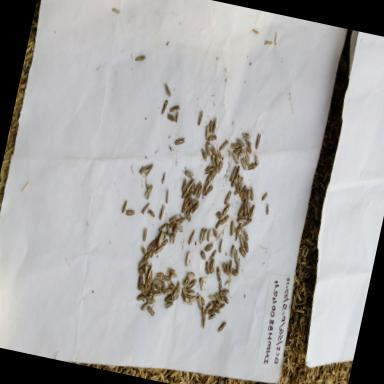pbw: (143, 160, 155, 180), (230, 164, 240, 188), (142, 182, 154, 201), (252, 130, 262, 152), (210, 114, 220, 136), (168, 100, 182, 115), (134, 50, 148, 65), (228, 164, 238, 184), (212, 289, 224, 305), (198, 147, 210, 163), (216, 319, 228, 335), (186, 276, 198, 292), (187, 228, 197, 247), (157, 202, 167, 221), (184, 249, 194, 268), (159, 98, 169, 117), (162, 186, 172, 205), (240, 199, 250, 218), (216, 236, 226, 255), (196, 107, 205, 128), (145, 262, 154, 283), (182, 167, 196, 180), (146, 266, 155, 286), (120, 197, 130, 215), (218, 137, 230, 152), (232, 180, 242, 198), (192, 179, 202, 197), (197, 302, 207, 320), (222, 188, 232, 206), (231, 246, 241, 264), (227, 220, 237, 238), (213, 264, 224, 280), (205, 168, 216, 184), (208, 166, 219, 182), (207, 246, 218, 262), (156, 230, 165, 249), (208, 257, 218, 274), (140, 225, 150, 242), (174, 134, 186, 148), (246, 160, 258, 174), (240, 228, 252, 242), (138, 161, 150, 175), (228, 242, 237, 260), (169, 226, 178, 244), (203, 300, 212, 318), (180, 196, 189, 214), (248, 202, 257, 220), (212, 152, 221, 170), (237, 233, 247, 249), (191, 200, 201, 216), (158, 170, 168, 186), (140, 200, 150, 216), (241, 238, 251, 254), (146, 236, 156, 252), (194, 294, 204, 310), (158, 280, 168, 296), (202, 141, 212, 157), (202, 260, 212, 276), (124, 205, 136, 218), (168, 216, 179, 230), (208, 142, 219, 156), (168, 210, 179, 224), (219, 213, 230, 227), (203, 164, 214, 178), (137, 255, 148, 269), (209, 226, 220, 240), (243, 187, 252, 204), (174, 279, 183, 296), (196, 182, 204, 201), (184, 208, 194, 223), (259, 189, 269, 204), (227, 266, 239, 278), (165, 112, 177, 124), (144, 304, 156, 316), (167, 290, 179, 302), (229, 152, 241, 164), (203, 123, 211, 141), (234, 136, 246, 148), (238, 183, 247, 199), (180, 185, 189, 201), (218, 286, 230, 298), (200, 312, 208, 330), (135, 292, 147, 304), (164, 222, 173, 238), (180, 176, 188, 194), (163, 299, 174, 312), (242, 216, 253, 229), (214, 217, 224, 231), (242, 152, 252, 166), (262, 202, 272, 216), (204, 184, 214, 198), (238, 156, 248, 170), (218, 260, 228, 274), (233, 172, 243, 186), (204, 240, 214, 254), (248, 184, 256, 201), (216, 158, 224, 175), (222, 201, 230, 218), (232, 226, 240, 243), (236, 203, 245, 218), (237, 148, 248, 160), (237, 245, 248, 257), (109, 6, 122, 16), (229, 139, 242, 149), (154, 244, 164, 257), (140, 299, 150, 312), (158, 219, 168, 232), (208, 154, 218, 167), (138, 243, 148, 256), (204, 178, 212, 194), (170, 286, 178, 302), (216, 276, 224, 292), (226, 258, 234, 274), (244, 200, 252, 216), (145, 248, 153, 264), (206, 258, 214, 274), (134, 274, 142, 290), (201, 226, 208, 244), (252, 152, 261, 166), (236, 256, 243, 274), (184, 190, 193, 204), (206, 132, 218, 142), (179, 286, 191, 296), (161, 274, 173, 284), (174, 216, 186, 226), (159, 238, 169, 250), (188, 294, 198, 306), (146, 294, 158, 304), (174, 221, 184, 233), (206, 304, 216, 316), (240, 130, 252, 140), (198, 249, 208, 261), (166, 270, 178, 280), (223, 259, 231, 274), (220, 292, 230, 304), (198, 274, 210, 284), (182, 296, 194, 306), (206, 226, 213, 243), (149, 243, 156, 260), (207, 117, 214, 133), (182, 274, 190, 288), (172, 110, 180, 124), (140, 272, 148, 286), (198, 227, 206, 241), (198, 278, 206, 292), (240, 188, 248, 202), (212, 209, 222, 220), (243, 144, 254, 154), (146, 207, 156, 218), (151, 290, 162, 300), (237, 215, 248, 225), (142, 263, 150, 276), (166, 266, 176, 276), (207, 312, 217, 322), (243, 138, 253, 148), (216, 302, 226, 312), (186, 270, 196, 280), (154, 270, 164, 280), (164, 286, 174, 296), (150, 282, 160, 292), (238, 175, 245, 189), (143, 279, 150, 293), (136, 266, 144, 278), (206, 294, 218, 302), (238, 221, 246, 233), (186, 288, 196, 297), (232, 145, 241, 155), (152, 277, 162, 286), (168, 280, 176, 290), (216, 149, 223, 160), (189, 196, 195, 207), (213, 308, 221, 315)
